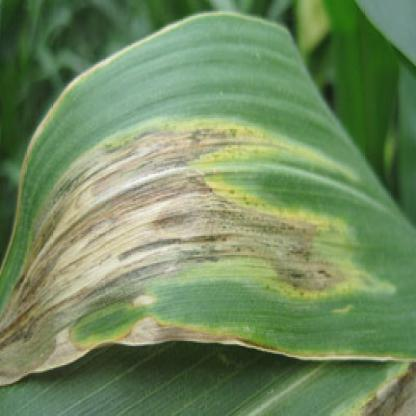corn leaf blight: (5, 24, 415, 359)
